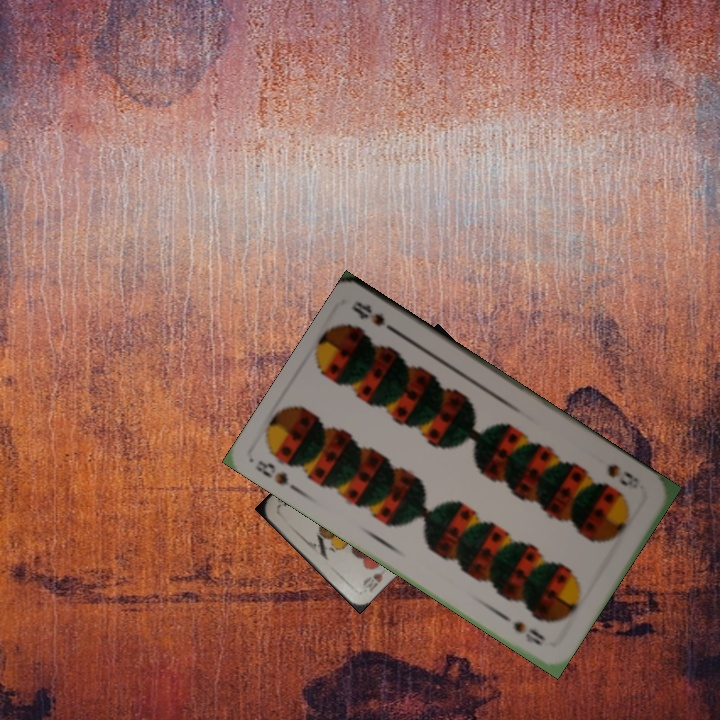H10: (358, 564, 389, 595)
S8: (251, 456, 291, 488), (603, 460, 643, 489)
